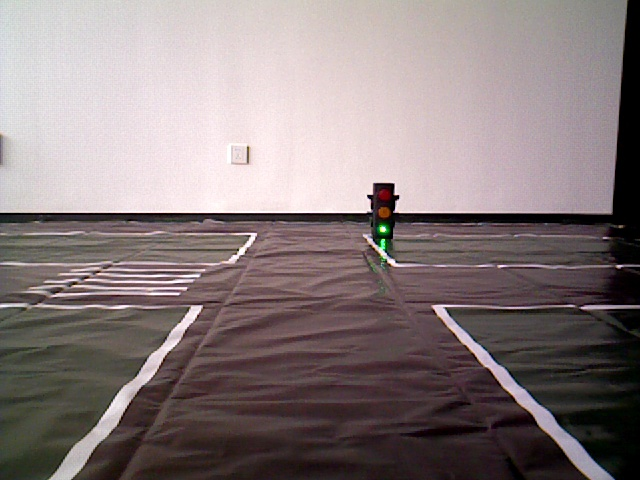green: (372, 183, 392, 233)
